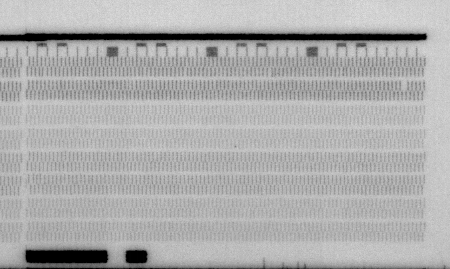Broken hole: (399, 80, 410, 91)
Oblique printing: (266, 66, 277, 76)
